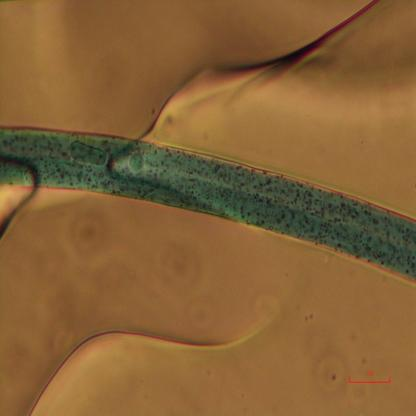Background material: (133, 0, 381, 140), (20, 292, 283, 416), (152, 236, 204, 303), (303, 337, 354, 394), (59, 202, 112, 256)
Microfibre: (0, 124, 416, 288)
